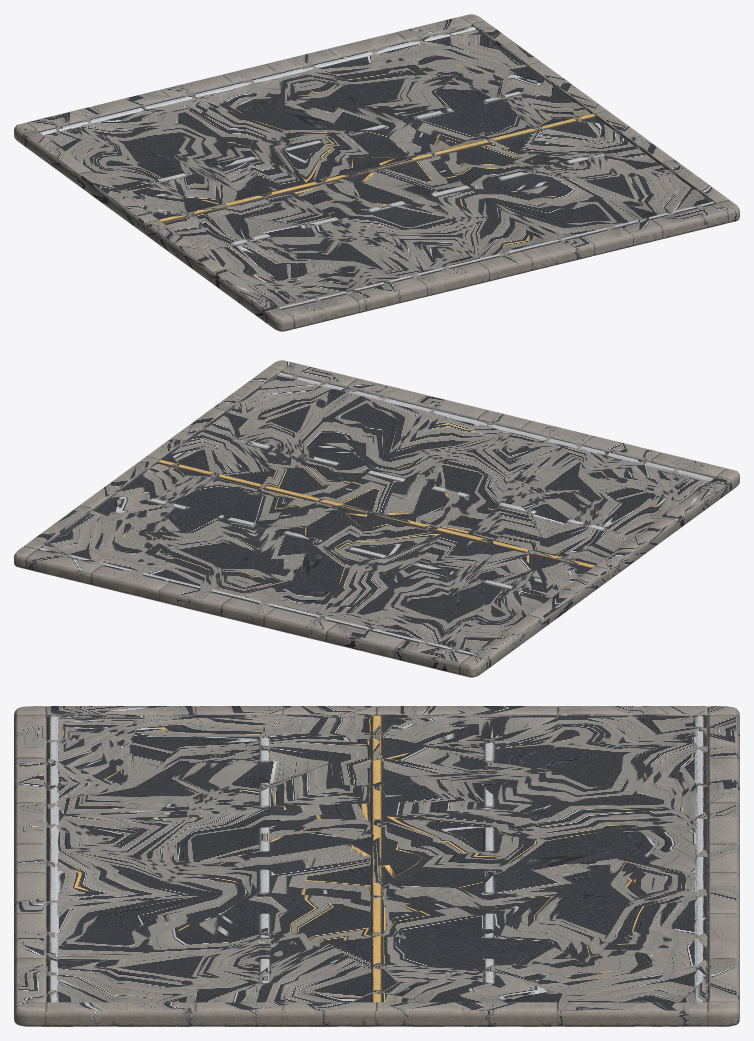
Rendered from roadseg.glb.
The picture shows the model from 3 angles, top to bottom: view 1: azimuth 30°, elevation 25°; view 2: azimuth 150°, elevation 25°; view 3: azimuth 270°, elevation 25°; orthographic projection. The views are drawn at different scales.
Size of the model in its own units: 1.9 by 0.0479 by 1.9.
Materials: 1 (1 with a texture image).
